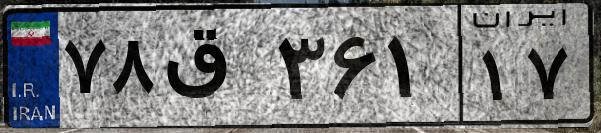1: (385, 28, 445, 110), (475, 38, 525, 113)
3: (270, 28, 330, 110)
6: (330, 28, 385, 110)
7: (57, 26, 110, 100), (525, 38, 570, 115)
8: (110, 28, 158, 98)
ق: (158, 20, 270, 120)
